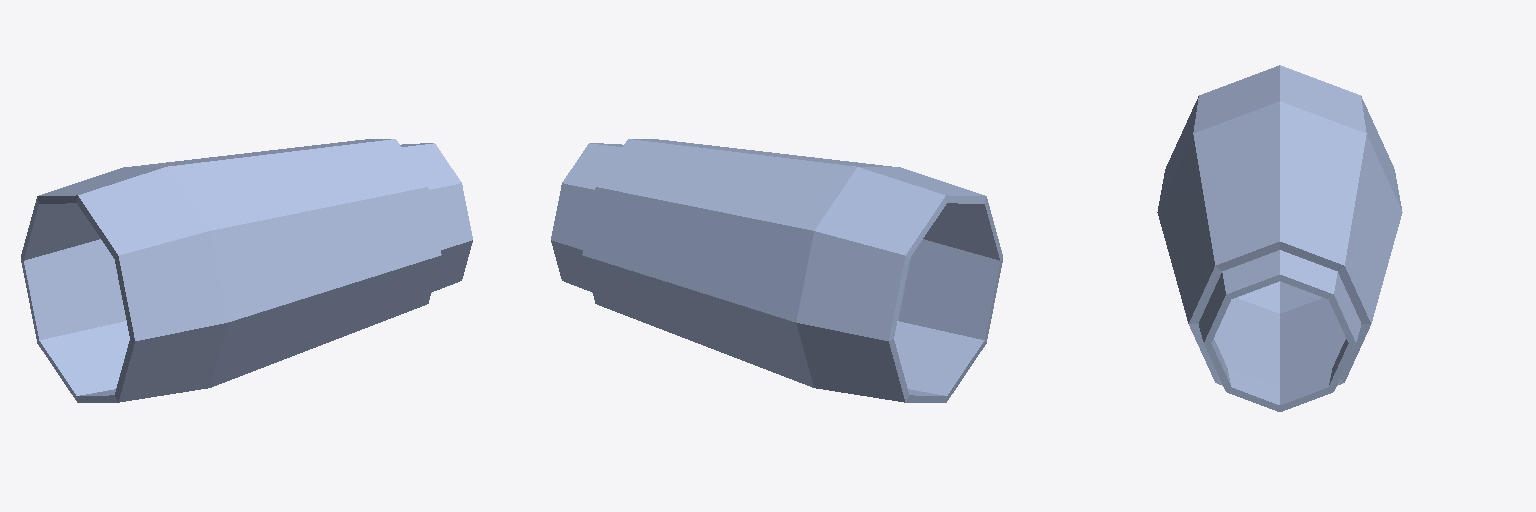
The model's file is thruster.obj.
The picture shows the model from 3 angles: view 1: azimuth 30°, elevation 25°; view 2: azimuth 150°, elevation 25°; view 3: azimuth 270°, elevation 25°; orthographic projection.
Parts seen in each view (by area): view 1: thruster; view 2: thruster; view 3: thruster.
Boxes of the visible parts, <box> form: thruster: <box>21,139,472,402</box>; thruster: <box>551,139,1002,402</box>; thruster: <box>1157,65,1402,411</box>.
Bounding box in the file's own units: 8.13 × 4.82 × 4.82.